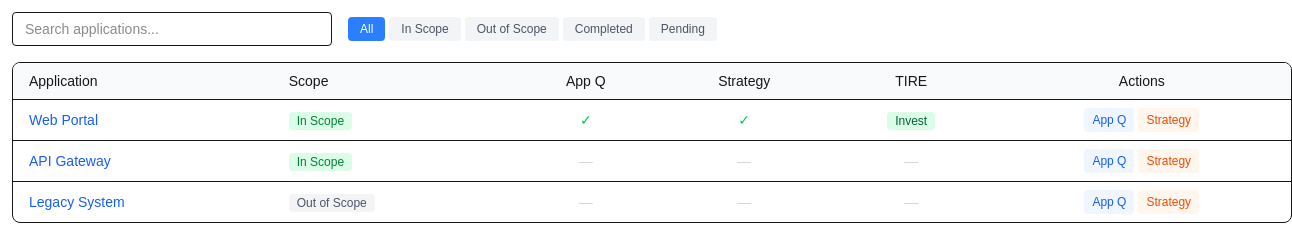
Test: ApplicationTable › filters by In Scope
Note: Click the filter button (not the badge in the table)
Click the button "In Scope": (425, 29) left=389, top=17, right=461, bottom=41
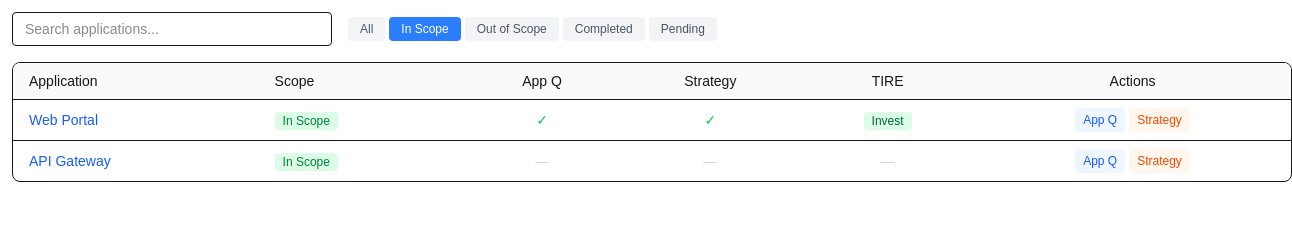
Expected: the link "Web Portal" is shown, left=29, top=112, right=98, bottom=128
Result: the link "Legacy System" is gone
